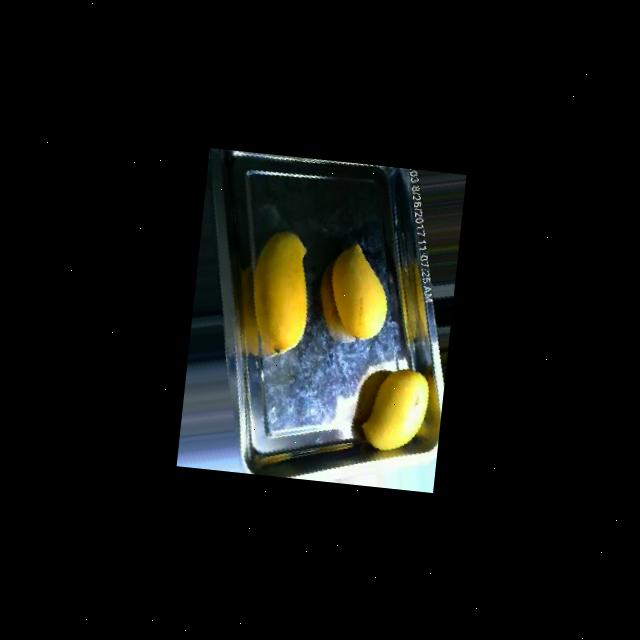Mango: (244, 228, 315, 361), (323, 241, 393, 343), (358, 366, 431, 456)
